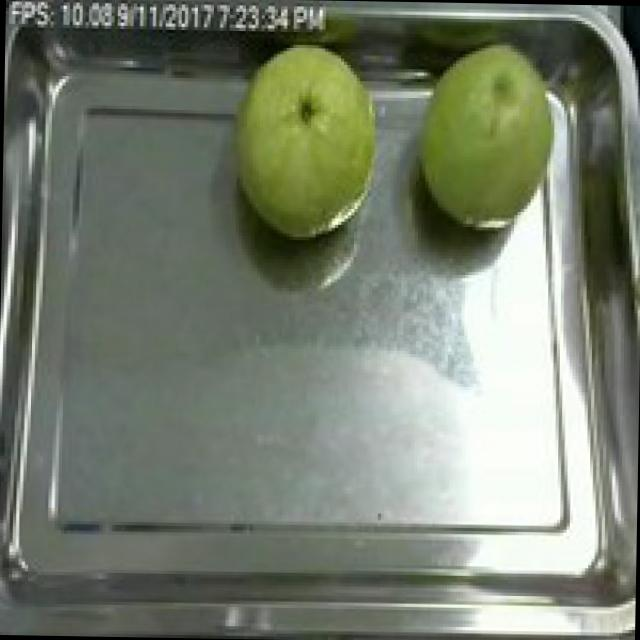Fruit: (398, 21, 584, 248), (218, 34, 396, 250)
